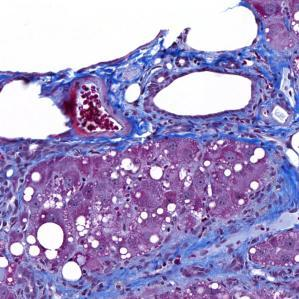fibrosis: (132, 114, 273, 144)
